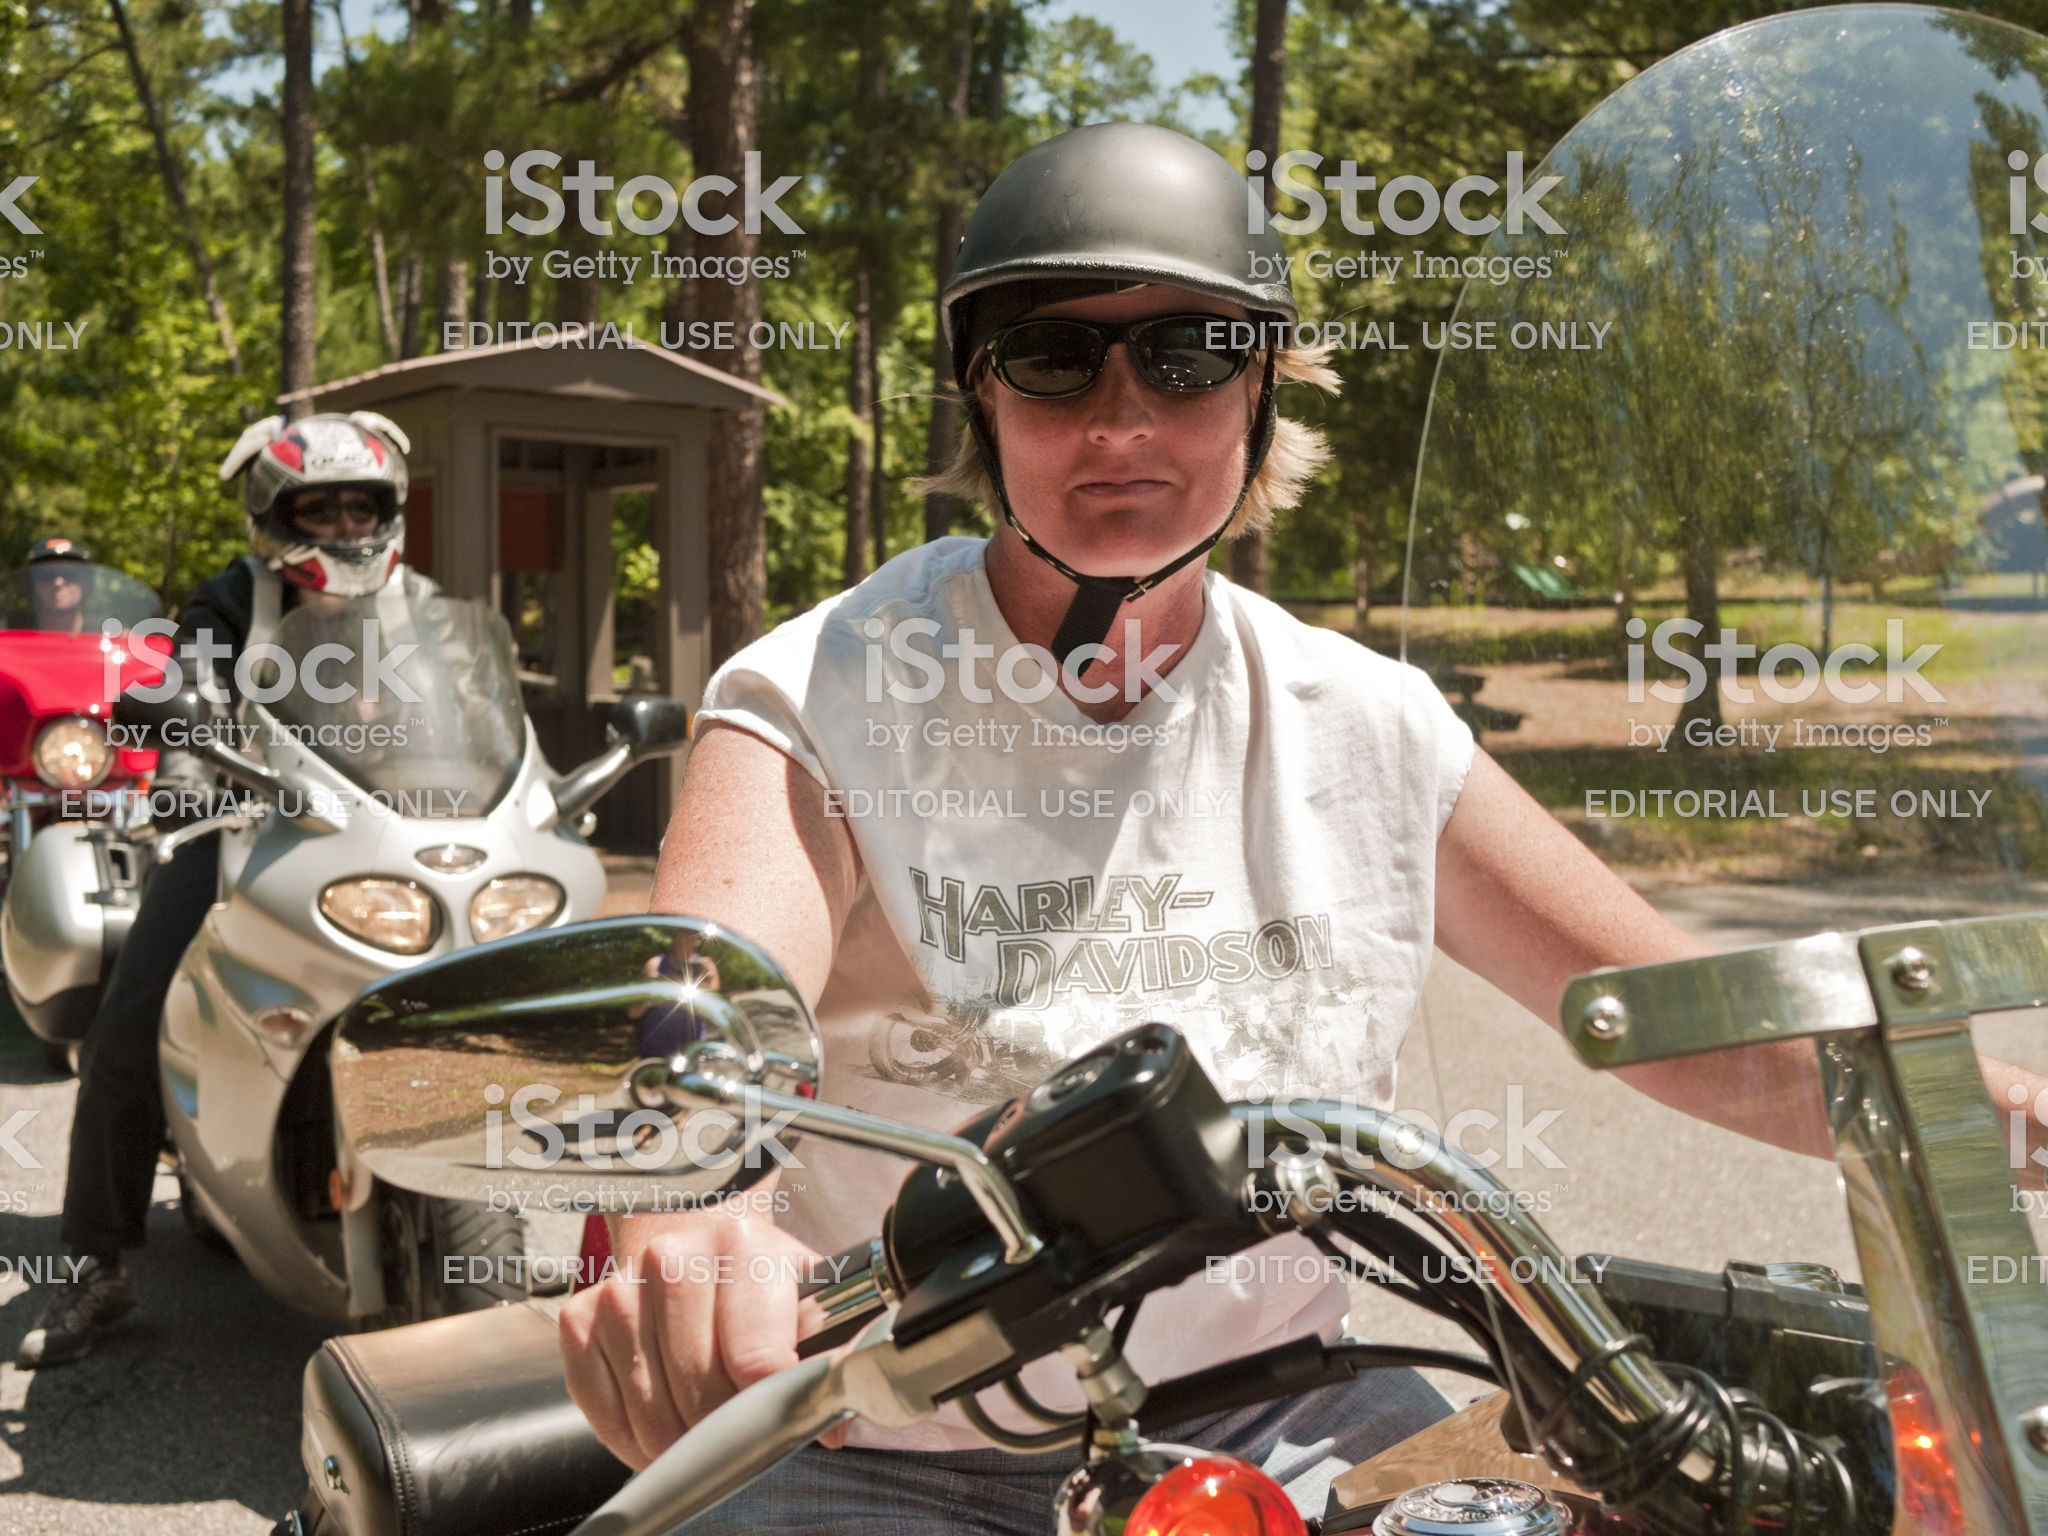helmet: (919, 123, 1285, 349), (250, 395, 414, 607)
